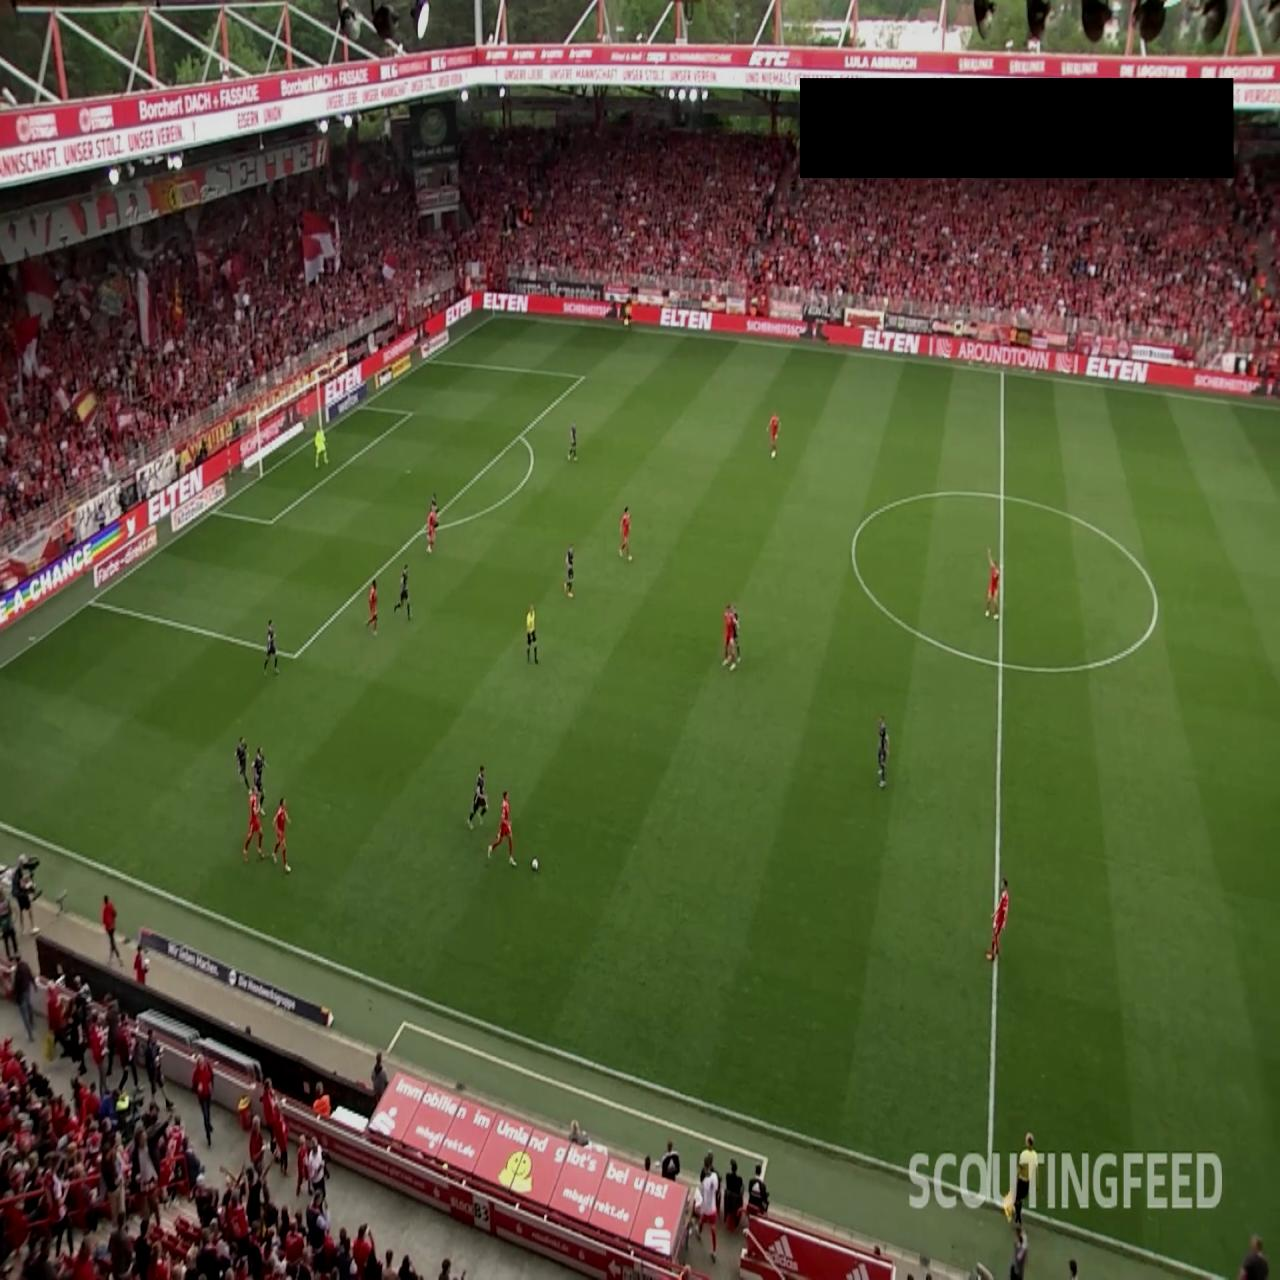ball: (530, 857, 538, 872)
goalkeeper: (313, 423, 330, 470)
player: (487, 789, 518, 868), (986, 877, 1010, 961), (242, 787, 265, 862), (271, 796, 292, 874), (466, 763, 488, 831), (722, 602, 740, 671), (984, 546, 1000, 620), (234, 734, 252, 794), (394, 567, 413, 621), (263, 617, 280, 677), (251, 745, 267, 805), (877, 715, 889, 788), (618, 505, 633, 562), (366, 578, 378, 636), (767, 411, 780, 460), (428, 491, 442, 536), (564, 543, 575, 597), (426, 502, 437, 554), (566, 419, 578, 465)
referee: (1002, 1132, 1038, 1230), (526, 602, 539, 665), (622, 300, 633, 332)
